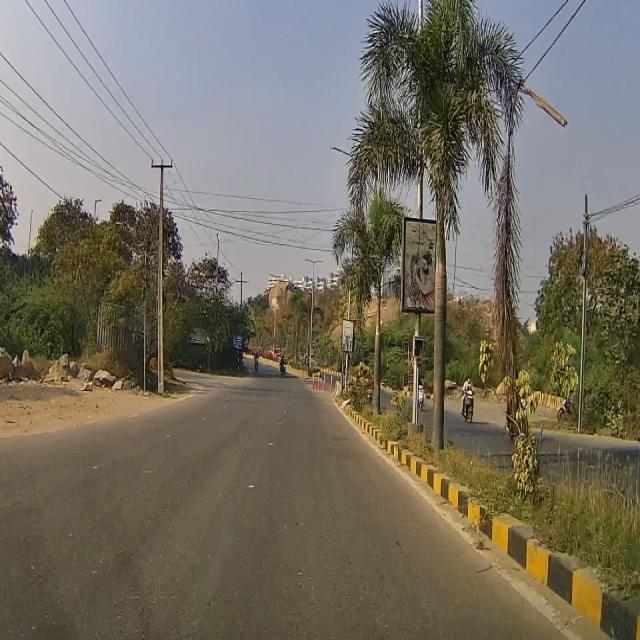electric pole ahead at: (142, 148, 183, 412)
stones ahead at: (54, 351, 114, 400), (1, 344, 37, 386)
